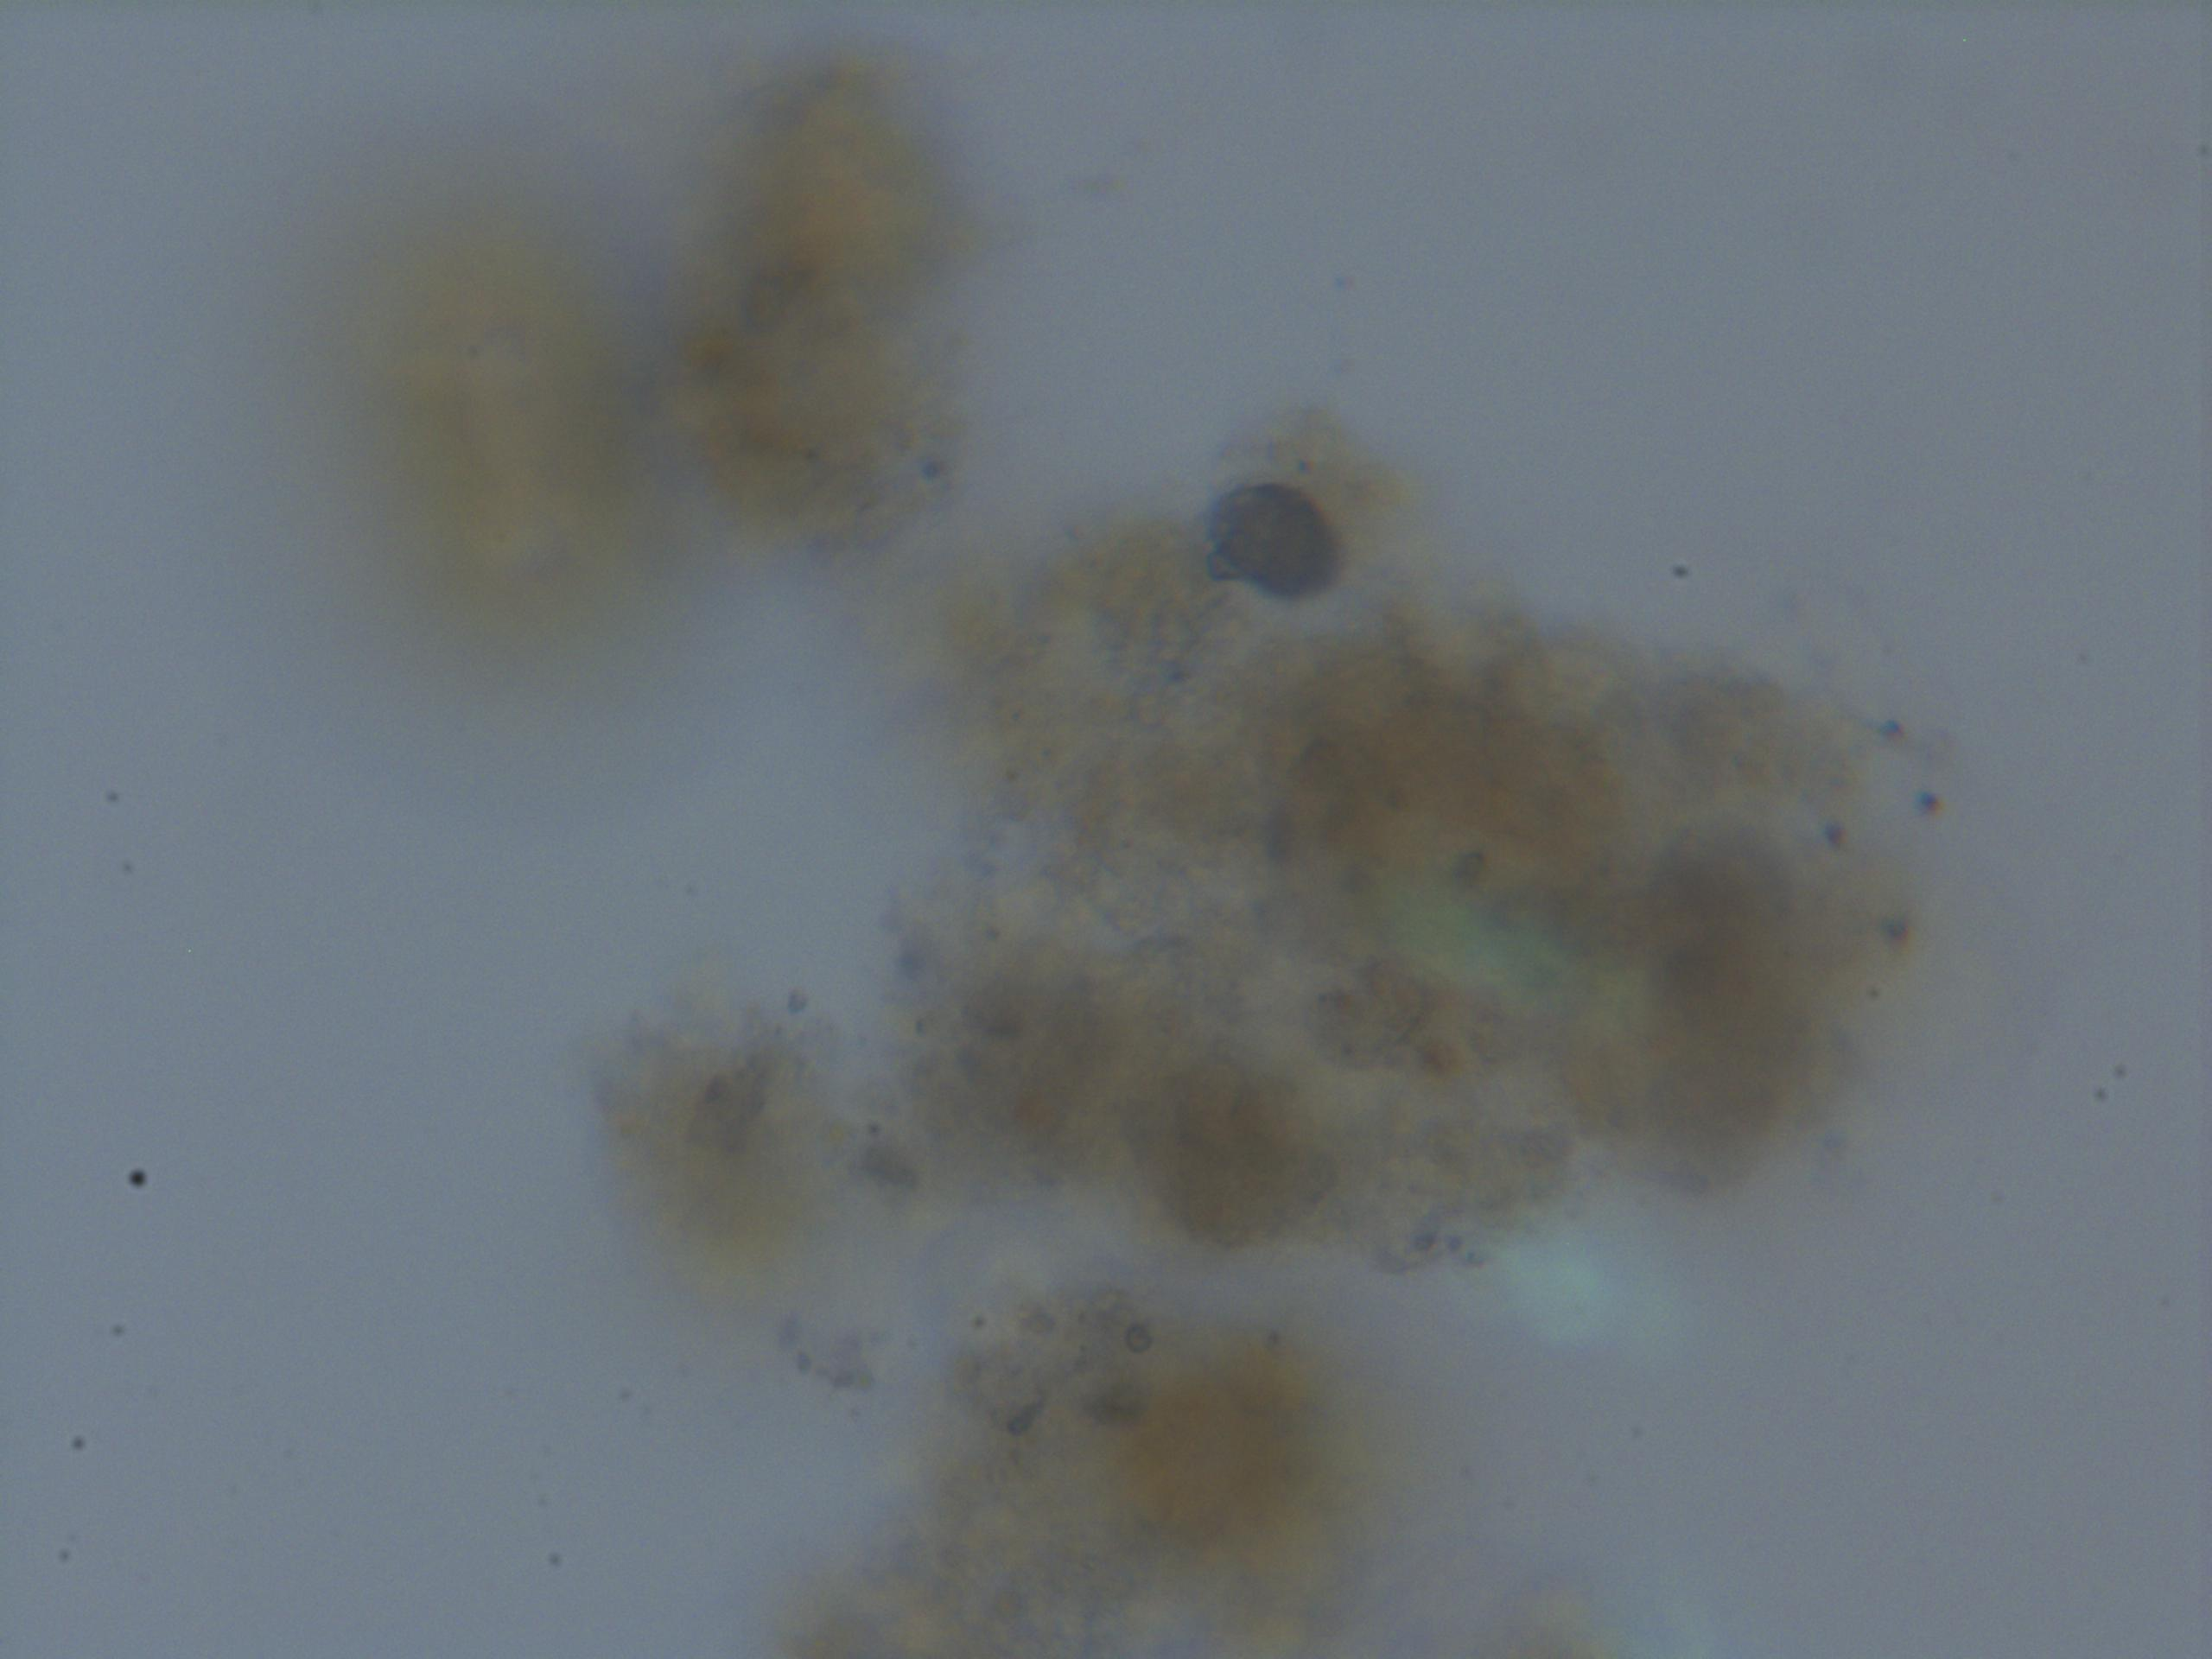open_floc: (338, 42, 1914, 1659)
